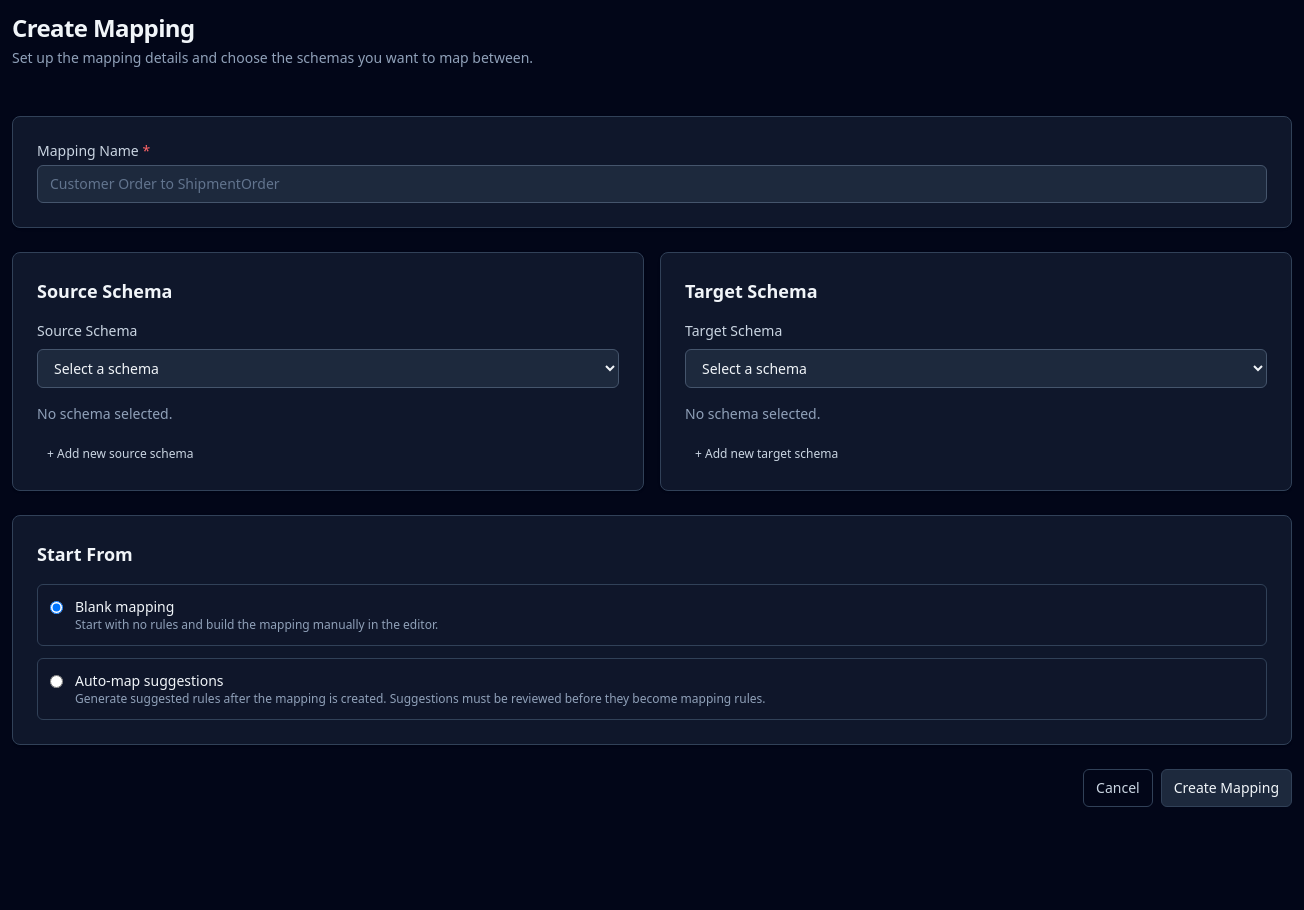
Scenario: CreateMappingPage (FS-088 T-08) › AE-09a: error schemas are visible but non-selectable; needs_review schemas are warning-selectable
The width and height of the screenshot is (1304, 910).
Select "Schema Needs Review • User • Ready • JSON • 3 fields" in the dropdown with test id "schema-select-target-schema". click: (976, 368)
box: [685,349,1267,388]
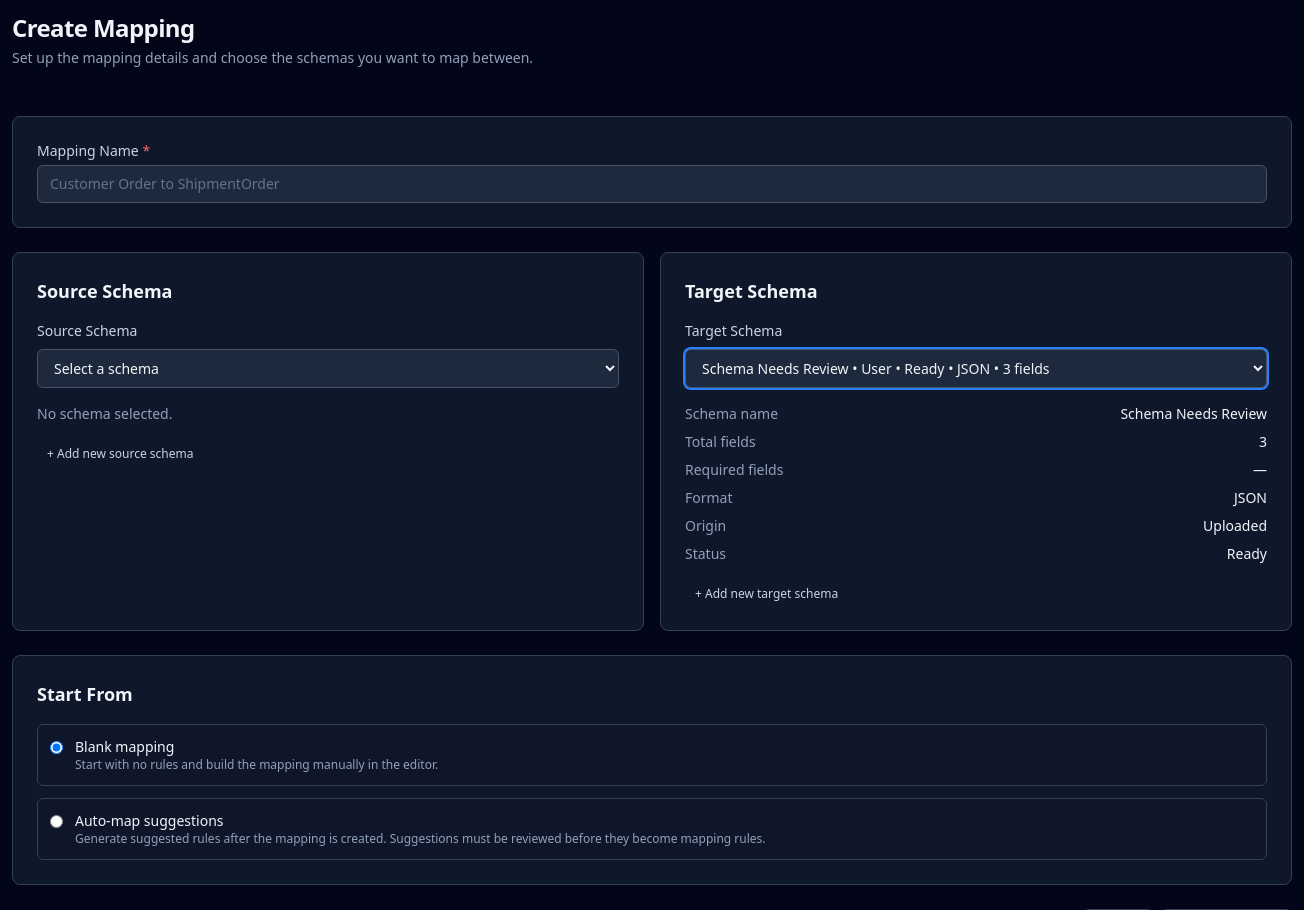
Check: the element with test id "target-status" shows "Ready", box [1227,544,1267,563]
